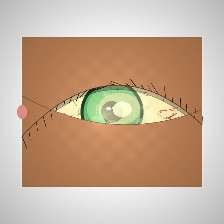corneal_ulcer: (85, 81, 154, 136)
